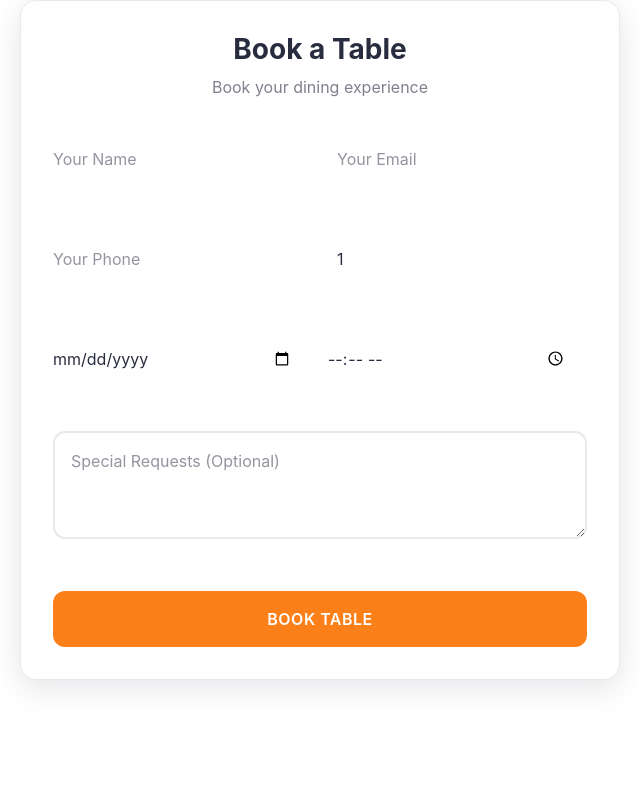
Test case: Restaurant Reservation System Tests › ReservationForm submits successfully with valid data
// Fill in valid form data
Type "John Doe" into the field with test id "name-input" at coordinates (187, 159), box 53,131 -> 321,187
Type "john@example.com" into the field with test id "email-input" at coordinates (471, 159), box 337,131 -> 605,187
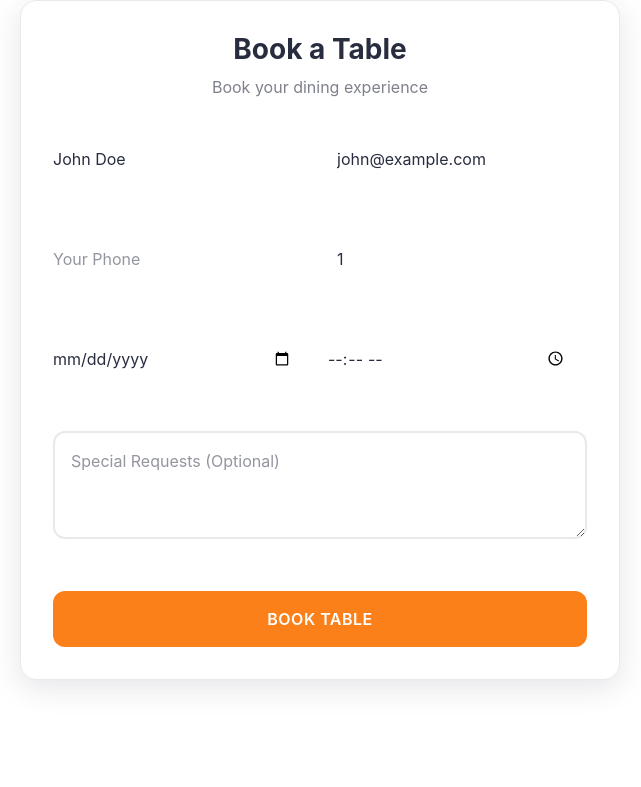
Type "123-456-7890" into the field with test id "phone-input" at coordinates (187, 259), box 53,231 -> 321,287
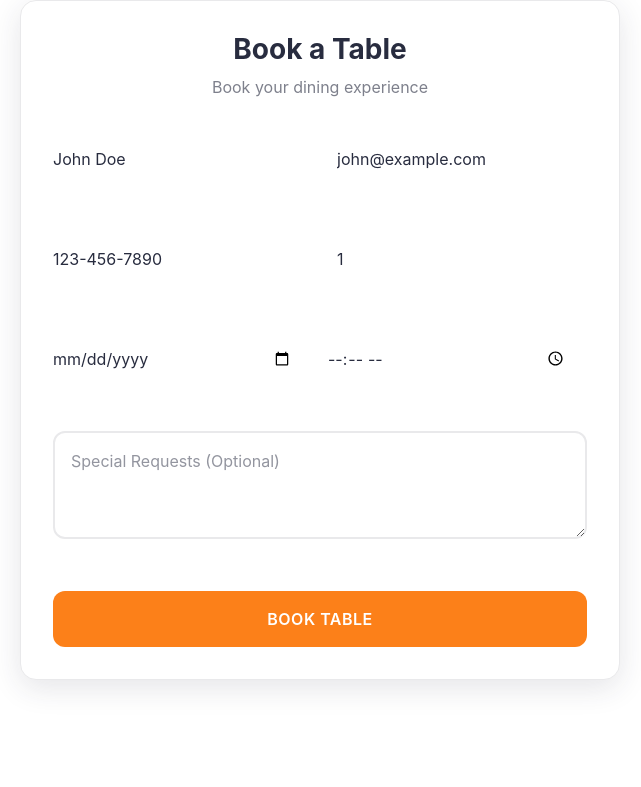
Type "2025-08-15" into the date field with test id "date-input" at coordinates (182, 359), box 53,331 -> 312,387
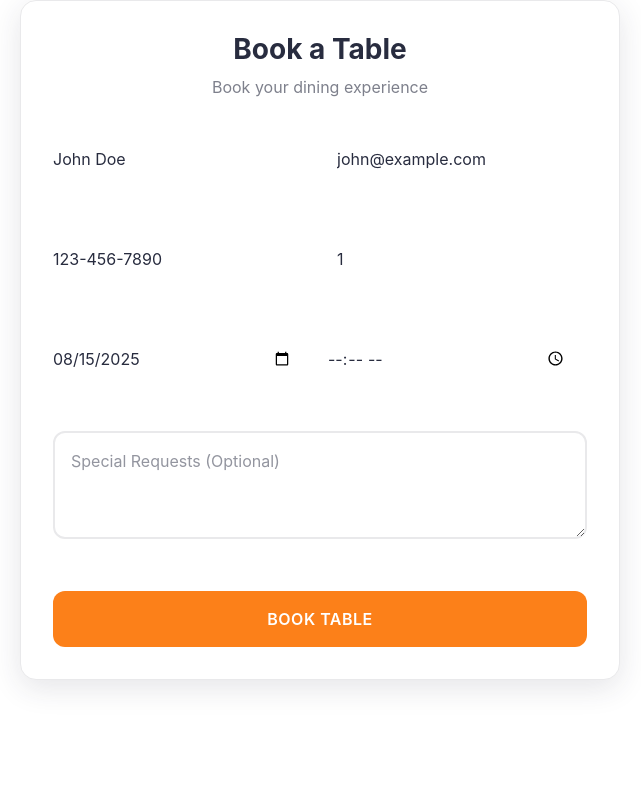
Type "19:00" into the time field with test id "time-input" at coordinates (458, 359), box 328,331 -> 587,387
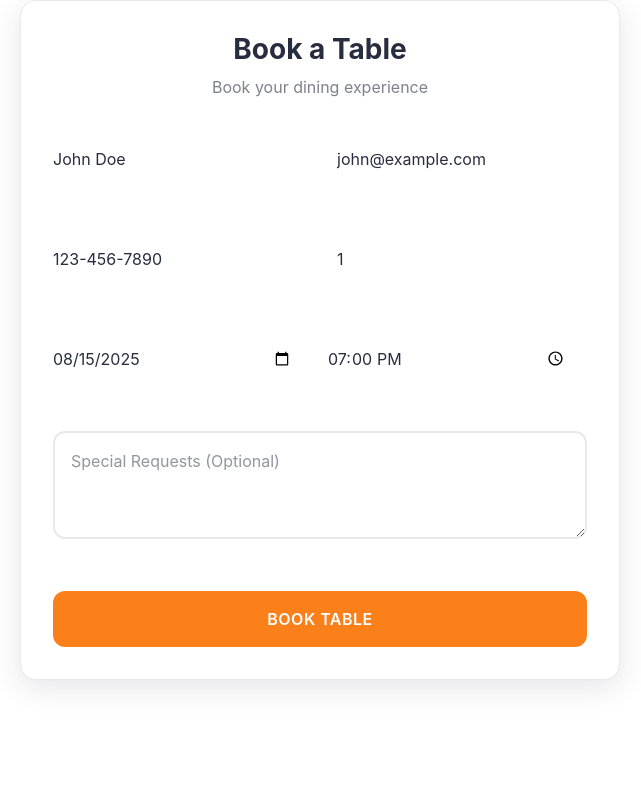
Replace the text in the number field with test id "party-size-input" with "4" at coordinates (471, 259), box 337,231 -> 605,287
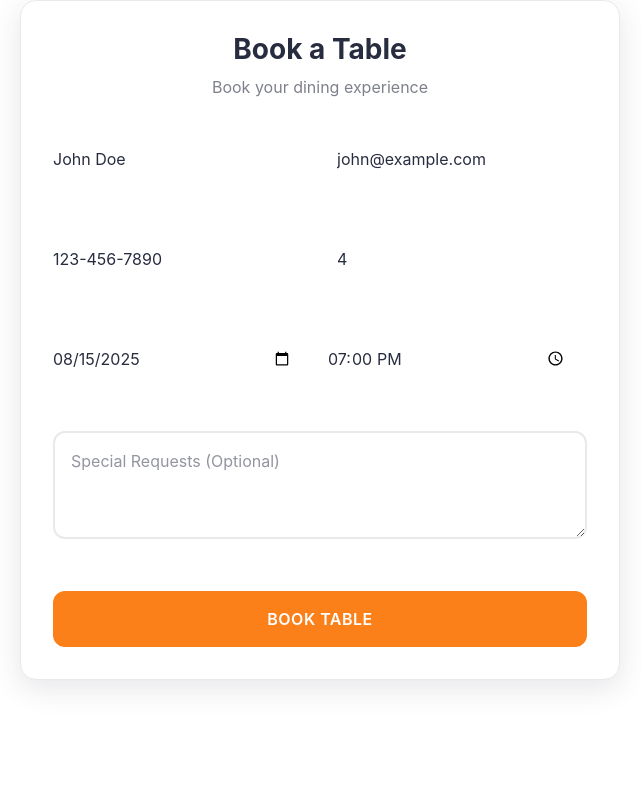
Click the button with test id "submit-button" at coordinates (320, 619), box 53,591 -> 587,647
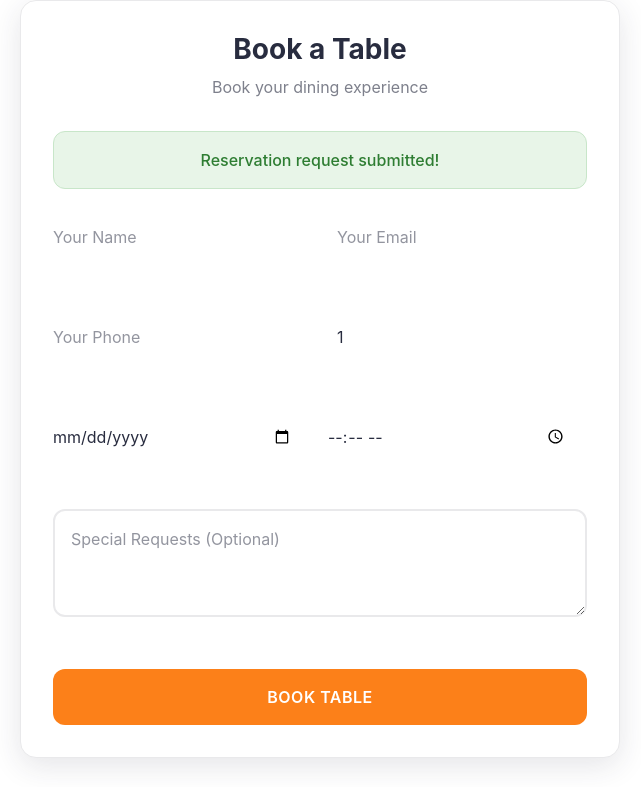
Result: the text "Reservation request submitted!" is shown at 53,131 -> 587,189
